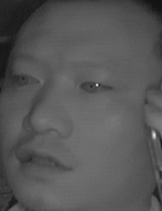eye: (80, 76, 109, 96), (11, 71, 41, 90)
mouth: (11, 139, 72, 179)
